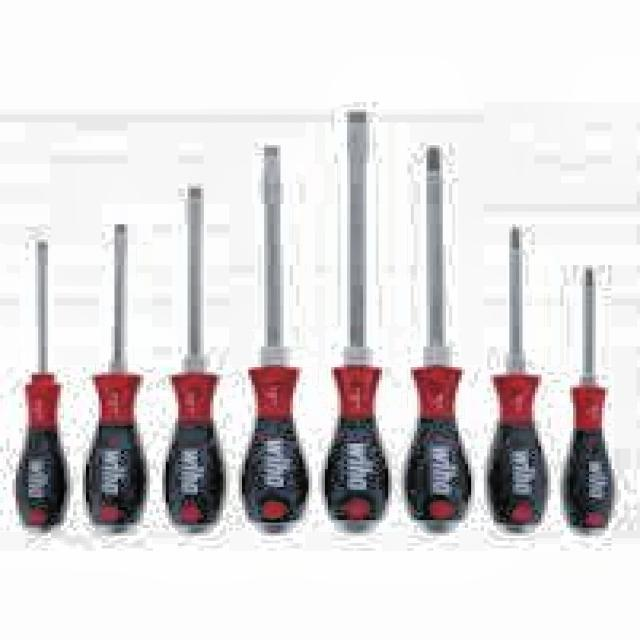screwdriver: (321, 114, 388, 534), (402, 147, 470, 532), (241, 146, 307, 534), (164, 189, 228, 532), (84, 225, 149, 532), (486, 228, 548, 534), (18, 241, 70, 534), (560, 271, 616, 534)
